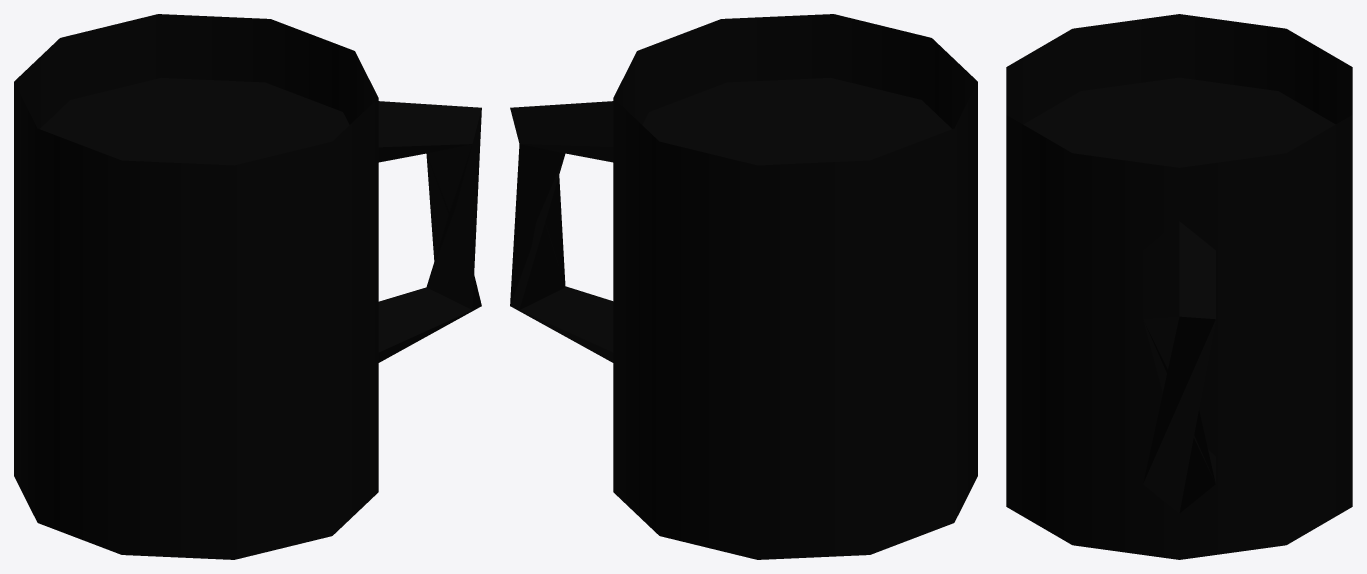
File: SM_mug_green.fbx
3 renders of one model, left to right at view 1: azimuth 30°, elevation 25°; view 2: azimuth 150°, elevation 25°; view 3: azimuth 270°, elevation 25°, orthographic.
Parts seen in each view (by area): view 1: mug_green; view 2: mug_green; view 3: mug_green.
Part boxes in pixels (x1,y1,x2,y2): mug_green: (14, 14, 481, 559); mug_green: (510, 14, 977, 559); mug_green: (1006, 14, 1352, 559).
Size of the model in its own units: 0.112 by 0.095 by 0.0761.
